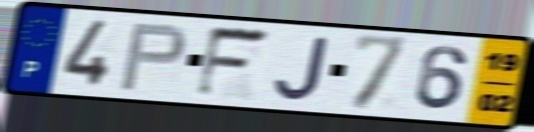4: (60, 18, 112, 90)
6: (415, 44, 468, 113)
7: (351, 31, 413, 114)
F: (193, 24, 273, 101)
J: (272, 35, 333, 103)
P: (116, 21, 189, 93)
